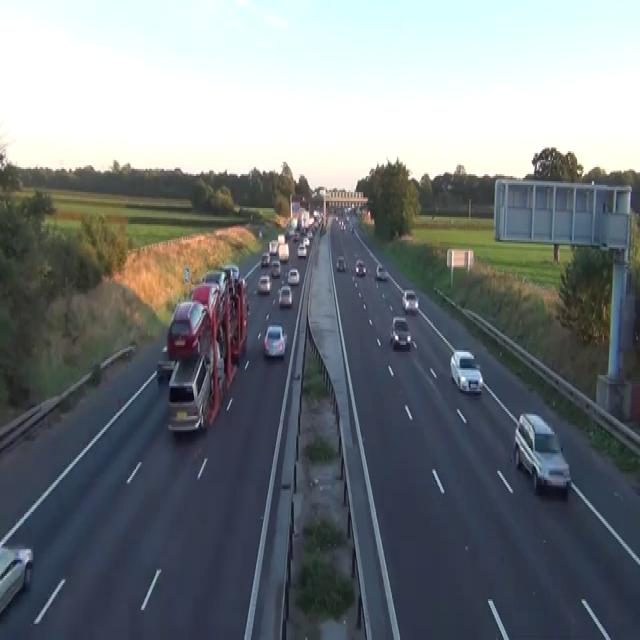Car: (513, 411, 571, 494), (166, 350, 212, 434), (167, 299, 208, 361), (0, 544, 33, 619), (450, 348, 483, 393), (263, 323, 287, 358), (191, 283, 219, 311), (389, 314, 411, 348), (156, 345, 176, 380), (202, 268, 227, 294), (401, 288, 418, 313), (221, 263, 239, 283), (278, 284, 292, 308), (257, 274, 271, 293), (287, 266, 299, 284), (91, 361, 101, 382), (278, 242, 289, 261), (355, 258, 366, 276), (336, 254, 346, 272), (376, 263, 387, 279), (271, 260, 280, 278), (260, 250, 270, 266), (268, 238, 278, 254), (297, 242, 306, 258), (277, 233, 285, 243), (319, 224, 326, 235), (292, 231, 299, 242), (339, 220, 346, 230), (313, 210, 320, 218), (303, 237, 309, 246), (258, 228, 262, 238), (350, 224, 354, 233), (334, 215, 338, 222)
Truck: (156, 263, 249, 436)
